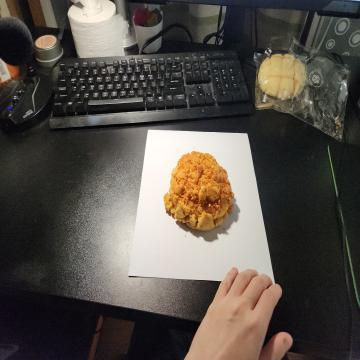soboru_bread: (164, 153, 234, 232)
